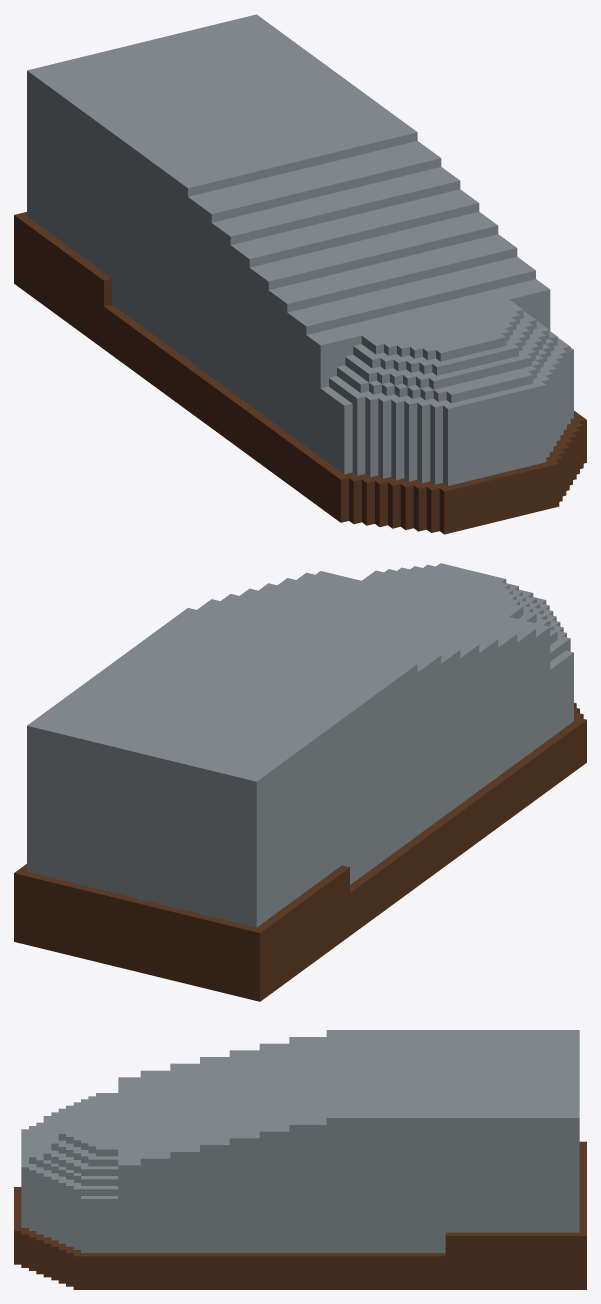
Rendered from sabaton_worn_foot.glb.
The picture shows the model from 3 angles, top to bottom: view 1: azimuth 30°, elevation 25°; view 2: azimuth 150°, elevation 25°; view 3: azimuth 270°, elevation 25°; orthographic projection. The views are drawn at different scales.
Visible parts, largest first — view 1: sabaton_worn_foot:compound; view 2: sabaton_worn_foot:compound; view 3: sabaton_worn_foot:compound.
Boxes of the visible parts, x1=… form: sabaton_worn_foot:compound: x1=14, y1=14, x2=586, y2=534; sabaton_worn_foot:compound: x1=14, y1=563, x2=586, y2=1001; sabaton_worn_foot:compound: x1=14, y1=1030, x2=586, y2=1289.
Size of the model in its own units: 0.12 by 0.1 by 0.308.
